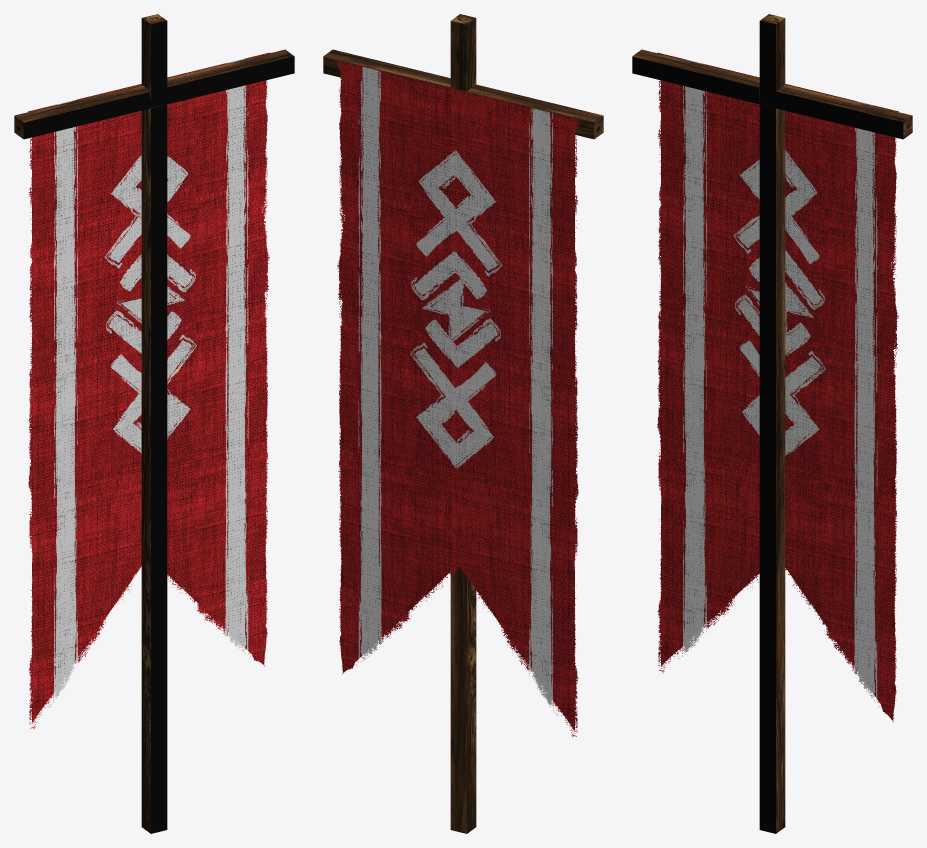
The model's file is Banners.fbx.
3 views of the same model, side by side, from view 1: azimuth 30°, elevation 25°; view 2: azimuth 150°, elevation 25°; view 3: azimuth 330°, elevation 25° (orthographic).
Parts seen in each view (by area): view 1: Banner, Pole; view 2: Banner, Pole; view 3: Banner, Pole.
Boxes of the visible parts, x1,y1,x2,y2 form: Banner: (28,52,269,729); Pole: (14,14,294,833); Banner: (337,60,578,736); Pole: (323,14,603,833); Banner: (657,52,898,722); Pole: (632,14,912,833).
Size of the model in its own units: 166 by 475 by 10.83.
